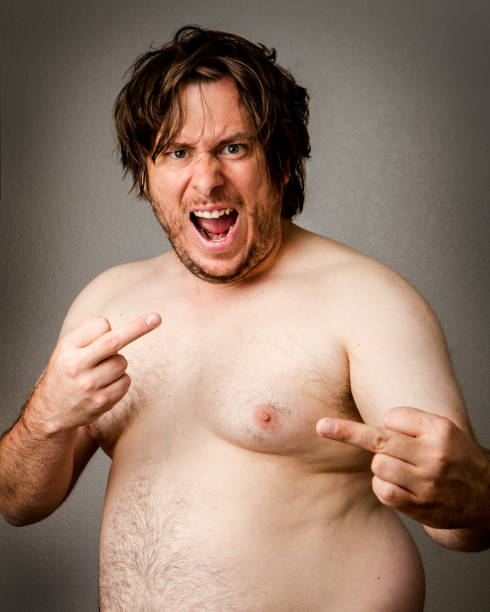insulting_gesture: (311, 402, 481, 528), (28, 307, 167, 428)
